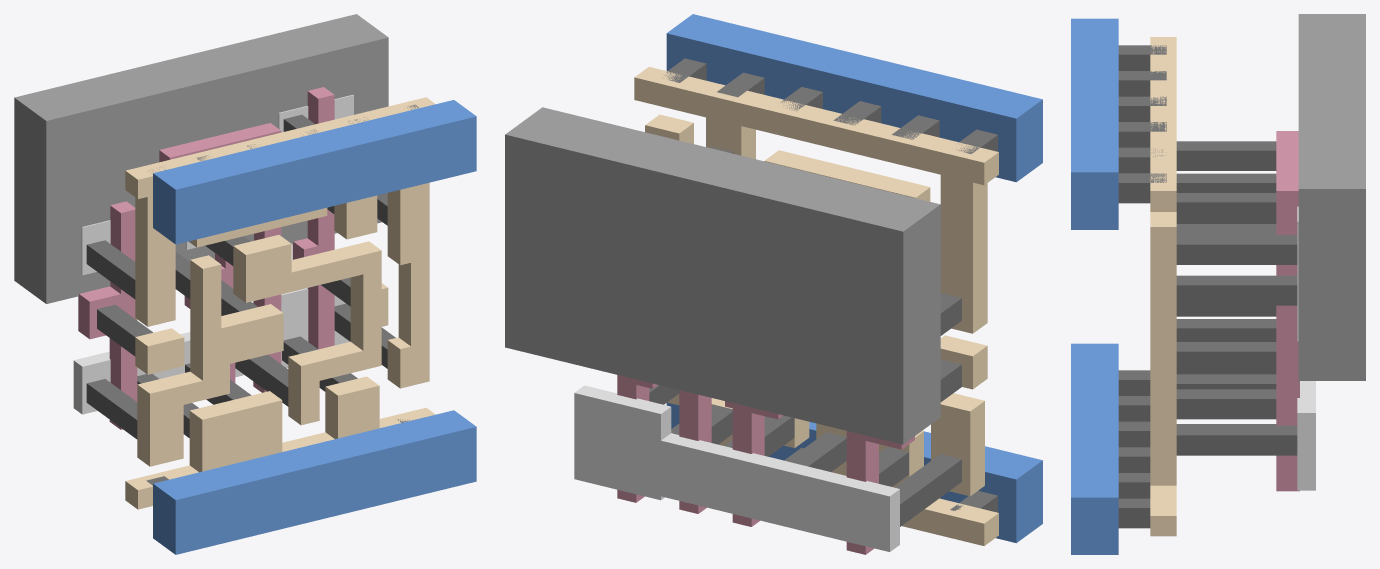
Rendered from sky130_fd_sc_hd__lpflow_inputiso1n_1.gds.gltf.
3 views of the same model, side by side, from view 1: azimuth 30°, elevation 25°; view 2: azimuth 150°, elevation 25°; view 3: azimuth 270°, elevation 25° (orthographic). The views are drawn at different scales.
Parts seen in each view (by area): view 1: sky130_fd_sc_hd__lpflow_inputiso1n_1_li1, sky130_fd_sc_hd__lpflow_inputiso1n_1_met1, sky130_fd_sc_hd__lpflow_inputiso1n_1_nwell, sky130_fd_sc_hd__lpflow_inputiso1n_1_licon, sky130_fd_sc_hd__lpflow_inputiso1n_1_poly, sky130_fd_sc_hd__lpflow_inputiso1n_1_diff; view 2: sky130_fd_sc_hd__lpflow_inputiso1n_1_nwell, sky130_fd_sc_hd__lpflow_inputiso1n_1_li1, sky130_fd_sc_hd__lpflow_inputiso1n_1_met1, sky130_fd_sc_hd__lpflow_inputiso1n_1_diff, sky130_fd_sc_hd__lpflow_inputiso1n_1_licon, sky130_fd_sc_hd__lpflow_inputiso1n_1_poly, sky130_fd_sc_hd__lpflow_inputiso1n_1_mcon; view 3: sky130_fd_sc_hd__lpflow_inputiso1n_1_licon, sky130_fd_sc_hd__lpflow_inputiso1n_1_nwell, sky130_fd_sc_hd__lpflow_inputiso1n_1_met1, sky130_fd_sc_hd__lpflow_inputiso1n_1_li1, sky130_fd_sc_hd__lpflow_inputiso1n_1_mcon, sky130_fd_sc_hd__lpflow_inputiso1n_1_poly, sky130_fd_sc_hd__lpflow_inputiso1n_1_diff.
Part boxes in pixels (box(x1,y1,x2,y2)): sky130_fd_sc_hd__lpflow_inputiso1n_1_li1: box(125, 97, 435, 509); sky130_fd_sc_hd__lpflow_inputiso1n_1_met1: box(153, 100, 476, 554); sky130_fd_sc_hd__lpflow_inputiso1n_1_nwell: box(14, 14, 388, 303); sky130_fd_sc_hd__lpflow_inputiso1n_1_licon: box(86, 114, 395, 439); sky130_fd_sc_hd__lpflow_inputiso1n_1_poly: box(78, 87, 334, 429); sky130_fd_sc_hd__lpflow_inputiso1n_1_diff: box(73, 94, 353, 414); sky130_fd_sc_hd__lpflow_inputiso1n_1_nwell: box(505, 107, 940, 444); sky130_fd_sc_hd__lpflow_inputiso1n_1_li1: box(634, 67, 998, 545); sky130_fd_sc_hd__lpflow_inputiso1n_1_met1: box(666, 14, 1042, 543); sky130_fd_sc_hd__lpflow_inputiso1n_1_diff: box(574, 385, 899, 551); sky130_fd_sc_hd__lpflow_inputiso1n_1_licon: box(649, 147, 961, 526); sky130_fd_sc_hd__lpflow_inputiso1n_1_poly: box(617, 375, 914, 554); sky130_fd_sc_hd__lpflow_inputiso1n_1_mcon: box(664, 58, 997, 512); sky130_fd_sc_hd__lpflow_inputiso1n_1_licon: box(1176, 141, 1297, 455); sky130_fd_sc_hd__lpflow_inputiso1n_1_nwell: box(1298, 14, 1365, 380); sky130_fd_sc_hd__lpflow_inputiso1n_1_met1: box(1071, 18, 1118, 554); sky130_fd_sc_hd__lpflow_inputiso1n_1_li1: box(1150, 37, 1176, 536); sky130_fd_sc_hd__lpflow_inputiso1n_1_mcon: box(1118, 45, 1166, 528); sky130_fd_sc_hd__lpflow_inputiso1n_1_poly: box(1276, 131, 1299, 491); sky130_fd_sc_hd__lpflow_inputiso1n_1_diff: box(1297, 206, 1315, 490).
Bounding box in the file's own units: 3.14 × 3.2 × 2.24.
